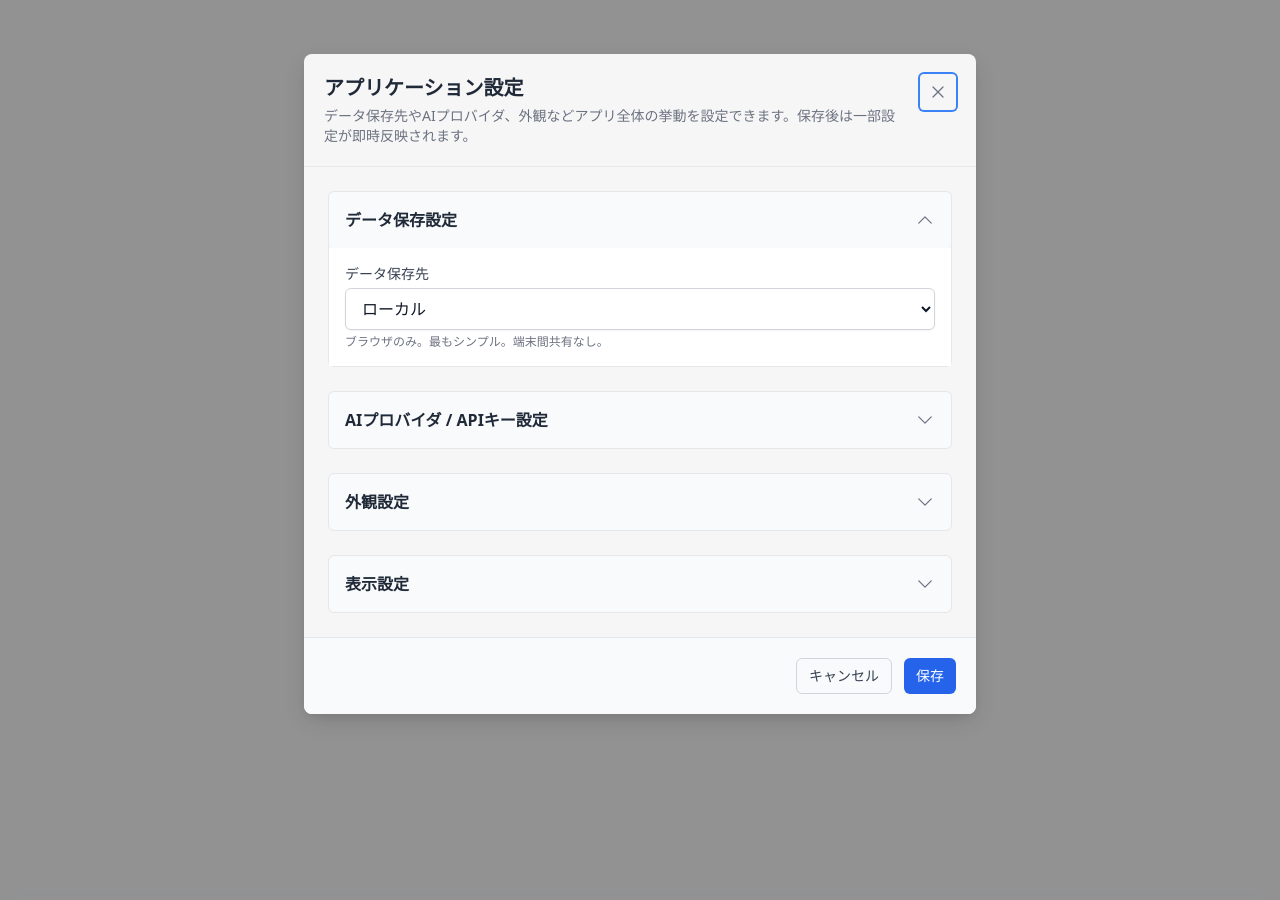
Test: SettingsModal - storage & connection › local 初期: 接続テストボタン非表示 / mode切替でUI変化
expect the button "接続テスト" is not shown: met
Select "Database" in the dropdown labelled "データ保存先" at (640, 309), box [345,288,935,330]
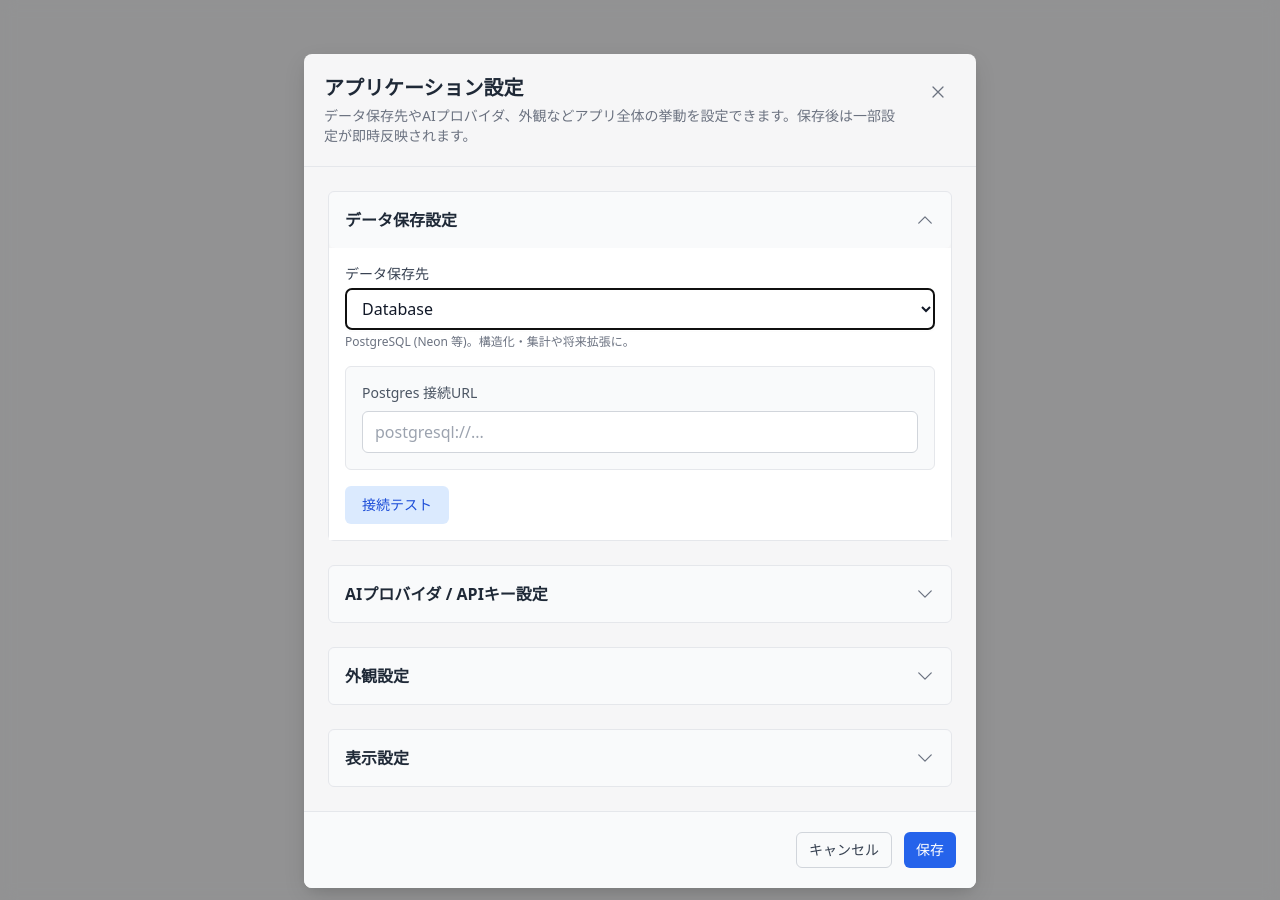
expect the password field labelled "Postgres 接続URL" is shown: met, box [362,411,918,453]
// blobs に変更で説明パネル表示
Select "Netlify Blobs" in the dropdown labelled "データ保存先" at (640, 309), box [345,288,935,330]
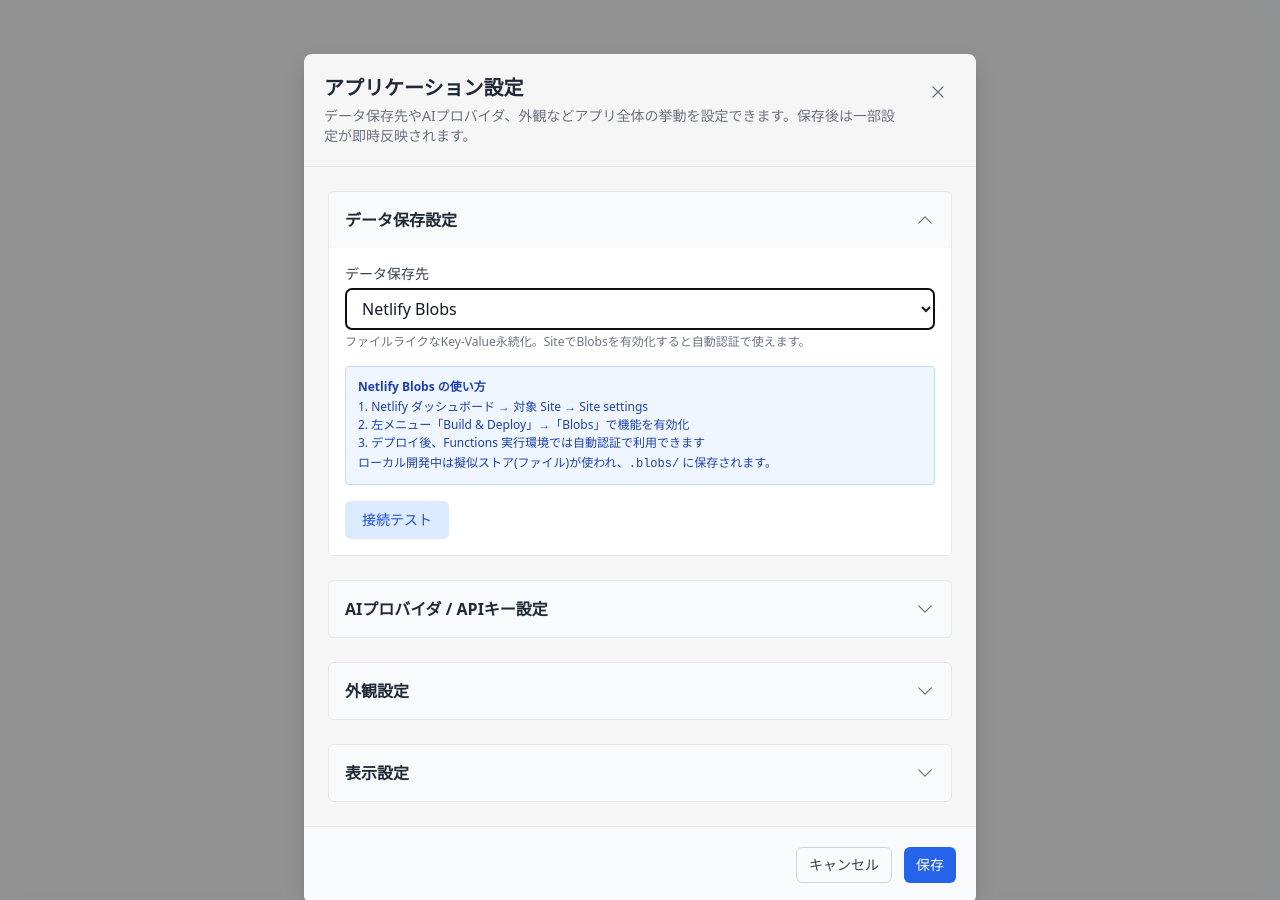
expect the button "接続テスト" is shown: met, box [345,501,449,539]
expect the text "Netlify Blobs の使い方" is shown: met, box [358,378,486,395]
